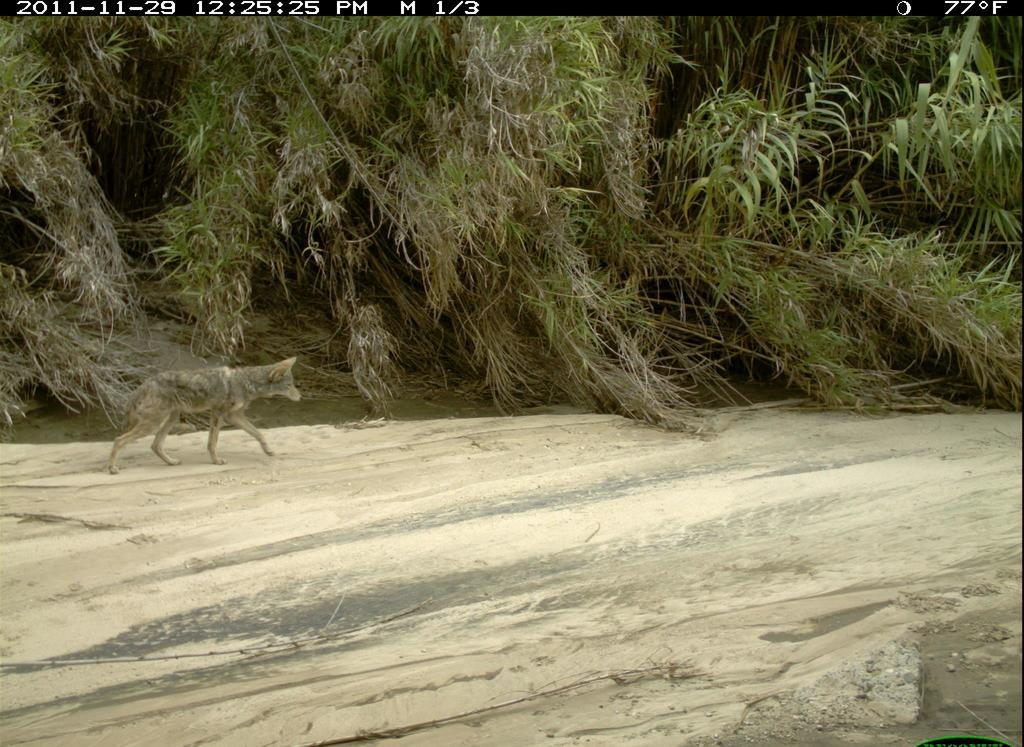coyote: (86, 349, 340, 515)
